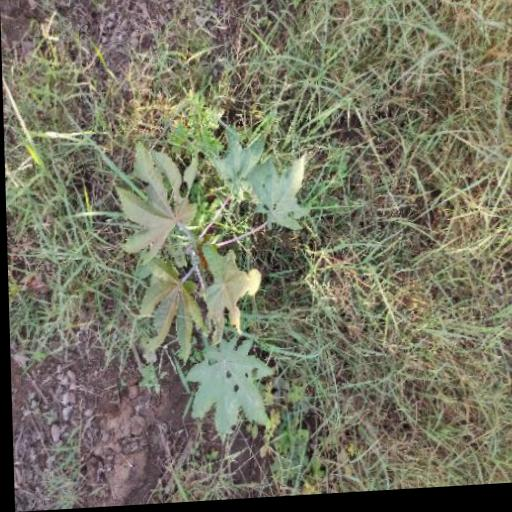weed: (78, 112, 332, 453)
